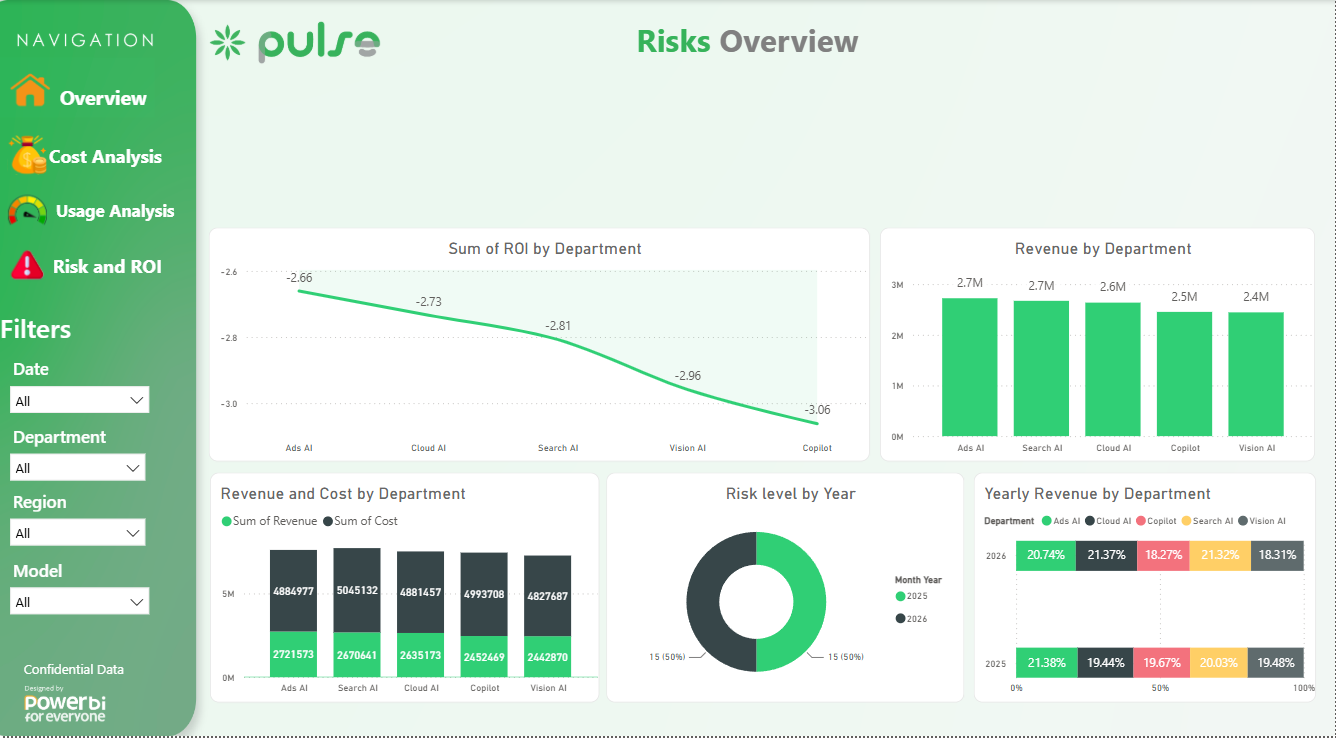

This screenshot's page, from the dashboard's own definition file:
{"tool":"powerbi","page":{"name":"Risk and ROI","canvas":[1360,750],"ordinal":3},"visuals":[{"type":"image","box":[0,0,212.7,750.3],"z":2000},{"type":"lineChart","title":"Sum of ROI by Department","fields":{"Category":["Risk_Flags.Department"],"Y":["Sum(Risk_Flags.ROI)"]},"box":[212.5,231.2,673.8,238.8],"z":4000},{"type":"columnChart","title":"Revenue and Cost by Department","fields":{"Category":["Risk_Flags.Department"],"Y":["Sum(Risk_Flags.Revenue)","Sum(Risk_Flags.Cost)"]},"box":[213.8,481.7,396.7,234.4],"z":21000},{"type":"image","box":[188,2,234,82],"z":22000},{"type":"textbox","box":[643.7,14.2,265.1,58.4],"z":23000},{"type":"image","box":[11.5,28,150.3,30.6],"z":24000},{"type":"lineStackedColumnComboChart","title":"Revenue by Department","fields":{"Category":["Risk_Flags.Department"],"Y":["Sum(Risk_Flags.Revenue)"]},"box":[896.7,231.2,443.4,238.6],"z":46000},{"type":"pieChart","title":"Risk level by Year","fields":{"Category":["Risk_Flags.Month.Variation.Date Hierarchy.Year","Risk_Flags.Month.Variation.Date Hierarchy.Quarter","Risk_Flags.Month.Variation.Date Hierarchy.Month","Risk_Flags.Month.Variation.Date Hierarchy.Day"],"Y":["CountNonNull(Risk_Flags.Risk_Level)"]},"box":[618.2,481.7,364.5,234.4],"z":47000},{"type":"hundredPercentStackedBarChart","title":"Yearly Revenue by Department","fields":{"Category":["Risk_Flags.Month.Variation.Date Hierarchy.Year","Risk_Flags.Month.Variation.Date Hierarchy.Quarter","Risk_Flags.Month.Variation.Date Hierarchy.Month","Risk_Flags.Month.Variation.Date Hierarchy.Day"],"Series":["Risk_Flags.Department"],"Y":["Sum(Risk_Flags.Revenue)"]},"box":[991.7,481.7,349,234.4],"z":48000},{"type":"textbox","box":[18.9,667.4,116.8,36.3],"z":48001},{"type":"image","box":[9.5,692.6,115.2,47.3],"z":48002},{"type":"actionButton","box":[0,58.6,157.9,61.1],"z":48003},{"type":"actionButton","box":[0,129.9,173.2,56],"z":48004},{"type":"actionButton","box":[0,186,186,56],"z":48005},{"type":"actionButton","box":[0,242,173.2,56],"z":48006},{"type":"slicer","fields":{"Values":["AI_Investment.Date"]},"box":[0,359.2,161.8,68.8],"z":48007},{"type":"slicer","fields":{"Values":["AI_Investment.Department"]},"box":[0,428,157.9,66.2],"z":48008},{"type":"slicer","fields":{"Values":["AI_Revenue.Region"]},"box":[0,494.2,157.9,66.2],"z":48009},{"type":"slicer","fields":{"Values":["AI_Investment.Model_Name"]},"box":[0,564.3,161.8,68.8],"z":48010},{"type":"shape","box":[0,307,169.4,52.2],"z":48011}]}

Visuals, with their boxes in screenshot pixels (x1, y1, x2, y2), scaled from the page's 1360x750 canvas onto the 1336x740 screenshot:
image: [0, 0, 209, 739]
"Sum of ROI by Department" lineChart: [209, 228, 871, 464]
"Revenue and Cost by Department" columnChart: [210, 475, 600, 707]
image: [185, 2, 415, 83]
textbox: [632, 14, 893, 72]
image: [11, 28, 159, 58]
"Revenue by Department" lineStackedColumnComboChart: [881, 228, 1316, 464]
"Risk level by Year" pieChart: [607, 475, 965, 707]
"Yearly Revenue by Department" hundredPercentStackedBarChart: [974, 475, 1317, 707]
textbox: [19, 659, 133, 694]
image: [9, 683, 122, 730]
actionButton: [0, 58, 155, 118]
actionButton: [0, 128, 170, 183]
actionButton: [0, 184, 183, 239]
actionButton: [0, 239, 170, 294]
slicer - AI_Investment.Date: [0, 354, 159, 422]
slicer - AI_Investment.Department: [0, 422, 155, 488]
slicer - AI_Revenue.Region: [0, 488, 155, 553]
slicer - AI_Investment.Model_Name: [0, 557, 159, 625]
shape: [0, 303, 166, 354]
